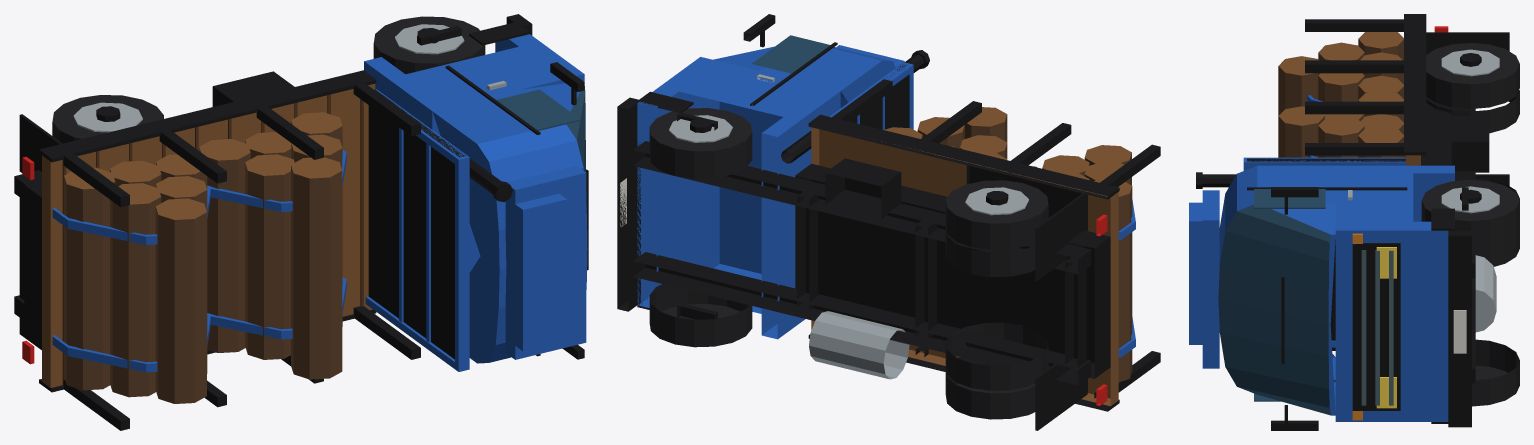
Rendered from loaded.glb.
The picture shows the model from 3 angles, left to right: view 1: azimuth 30°, elevation 25°; view 2: azimuth 150°, elevation 25°; view 3: azimuth 270°, elevation 25°; orthographic projection. The views are drawn at different scales.
Parts seen in each view (by area): view 1: loaded_headboard, loaded_cab_upper, loaded_deck, loaded_log120, loaded_log020, loaded_log010, loaded_log000, loaded_log110, loaded_air_dam_top, loaded_log100, loaded_air_dam, loaded_side1_-3.60_1.67_black (+33 smaller); view 2: loaded_subframe, loaded_cab_arch, loaded_chassis-1, loaded_deck, loaded_cab_front, loaded_cab_back, loaded_chassis1, loaded_front1, loaded_rear_out1, loaded_fuel_tank, loaded_side1_-3.60_1.67_black, loaded_front-1 (+30 smaller); view 3: loaded_cab_upper, loaded_cab_front, loaded_grille, loaded_rear_out1, loaded_front1, loaded_bumper, loaded_cab_arch, loaded_side1_-3.60_1.67_black, loaded_air_dam, loaded_front-1, loaded_battery_box, loaded_air_dam_top (+38 smaller).
Part boxes in pixels (<box>): loaded_headboard: <box>368,89,465,359</box>; loaded_cab_upper: <box>432,83,587,363</box>; loaded_deck: <box>42,83,375,387</box>; loaded_log120: <box>291,157,342,379</box>; loaded_log020: <box>155,198,206,403</box>; loaded_log010: <box>110,183,161,397</box>; loaded_log000: <box>64,167,115,390</box>; loaded_log110: <box>245,154,294,359</box>; loaded_air_dam_top: <box>515,193,566,351</box>; loaded_log100: <box>199,139,250,352</box>; loaded_air_dam: <box>505,165,586,359</box>; loaded_side1_-3.60_1.67_black: <box>39,70,376,162</box>; loaded_subframe: <box>795,163,1110,378</box>; loaded_cab_arch: <box>678,61,823,313</box>; loaded_chassis-1: <box>633,252,1091,385</box>; loaded_deck: <box>811,127,1118,406</box>; loaded_cab_front: <box>637,57,719,307</box>; loaded_cab_back: <box>761,87,840,339</box>; loaded_chassis1: <box>633,141,1091,274</box>; loaded_front1: <box>649,108,752,178</box>; loaded_rear_out1: <box>945,180,1048,249</box>; loaded_fuel_tank: <box>809,311,909,379</box>; loaded_side1_-3.60_1.67_black: <box>808,114,1119,199</box>; loaded_front-1: <box>649,284,752,347</box>; loaded_cab_upper: <box>1218,165,1335,415</box>; loaded_cab_front: <box>1335,221,1448,421</box>; loaded_grille: <box>1352,243,1400,410</box>; loaded_rear_out1: <box>1426,43,1519,108</box>; loaded_front1: <box>1421,179,1519,246</box>; loaded_bumper: <box>1448,230,1471,427</box>; loaded_cab_arch: <box>1335,173,1413,221</box>; loaded_side1_-3.60_1.67_black: <box>1404,14,1426,155</box>; loaded_air_dam: <box>1202,190,1219,368</box>; loaded_front-1: <box>1472,339,1519,406</box>; loaded_battery_box: <box>1451,115,1489,172</box>; loaded_air_dam_top: <box>1189,202,1202,344</box>.
Bounding box in the file's own units: 7.56 × 3.9 × 4.85.
